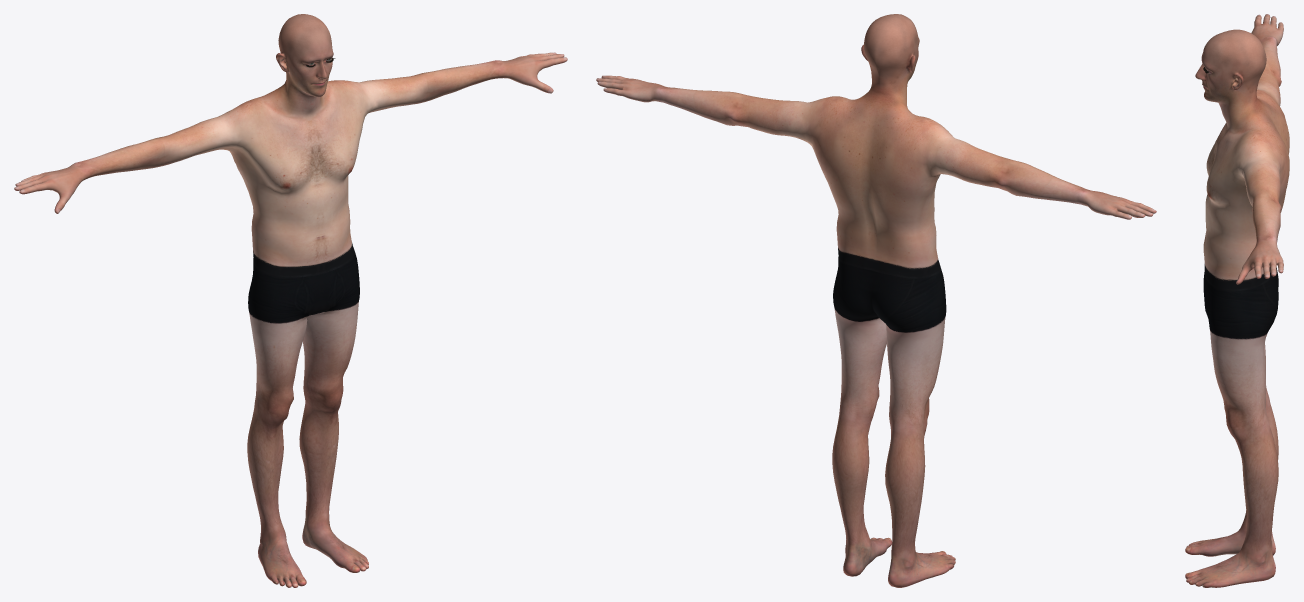
The model's file is WhiteMale1.fbx.
The picture shows the model from 3 angles, left to right: view 1: azimuth 30°, elevation 25°; view 2: azimuth 150°, elevation 25°; view 3: azimuth 270°, elevation 25°; orthographic projection. The views are drawn at different scales.
Visible parts, largest first — view 1: Body; view 2: Body; view 3: Body.
Part boxes in pixels (x1,y1,x2,y2): Body: [14, 14, 567, 587]; Body: [596, 14, 1156, 587]; Body: [1185, 14, 1289, 587].
Bounding box in the file's own units: 19481 × 18491 × 3274.
